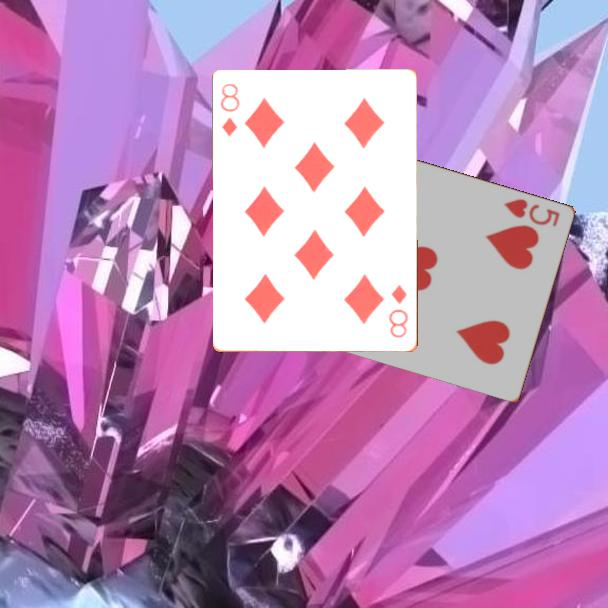d08: (217, 80, 243, 139), (386, 281, 411, 341)
h05: (501, 195, 563, 230)
